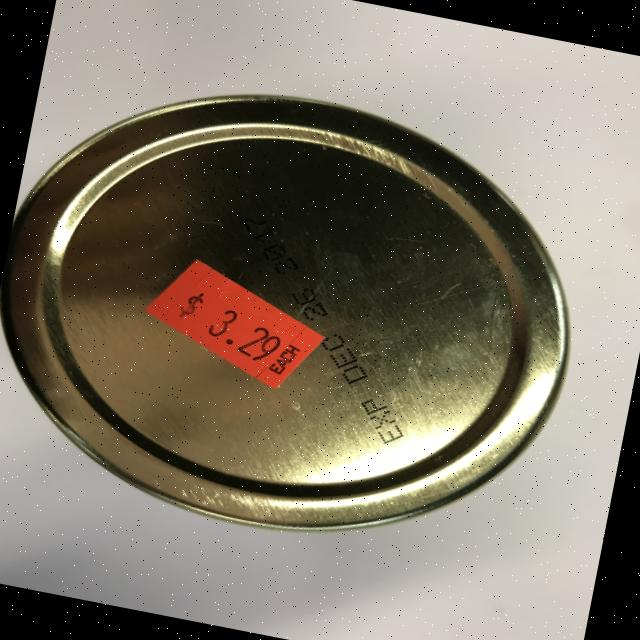glass: (0, 46, 609, 580)
